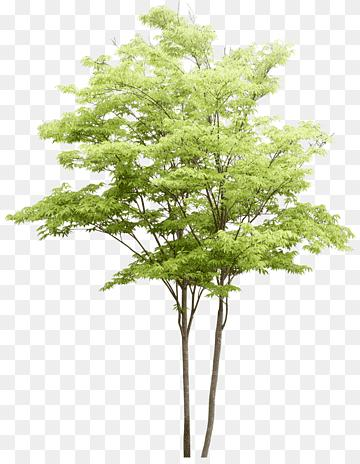tree: (8, 5, 358, 458)
